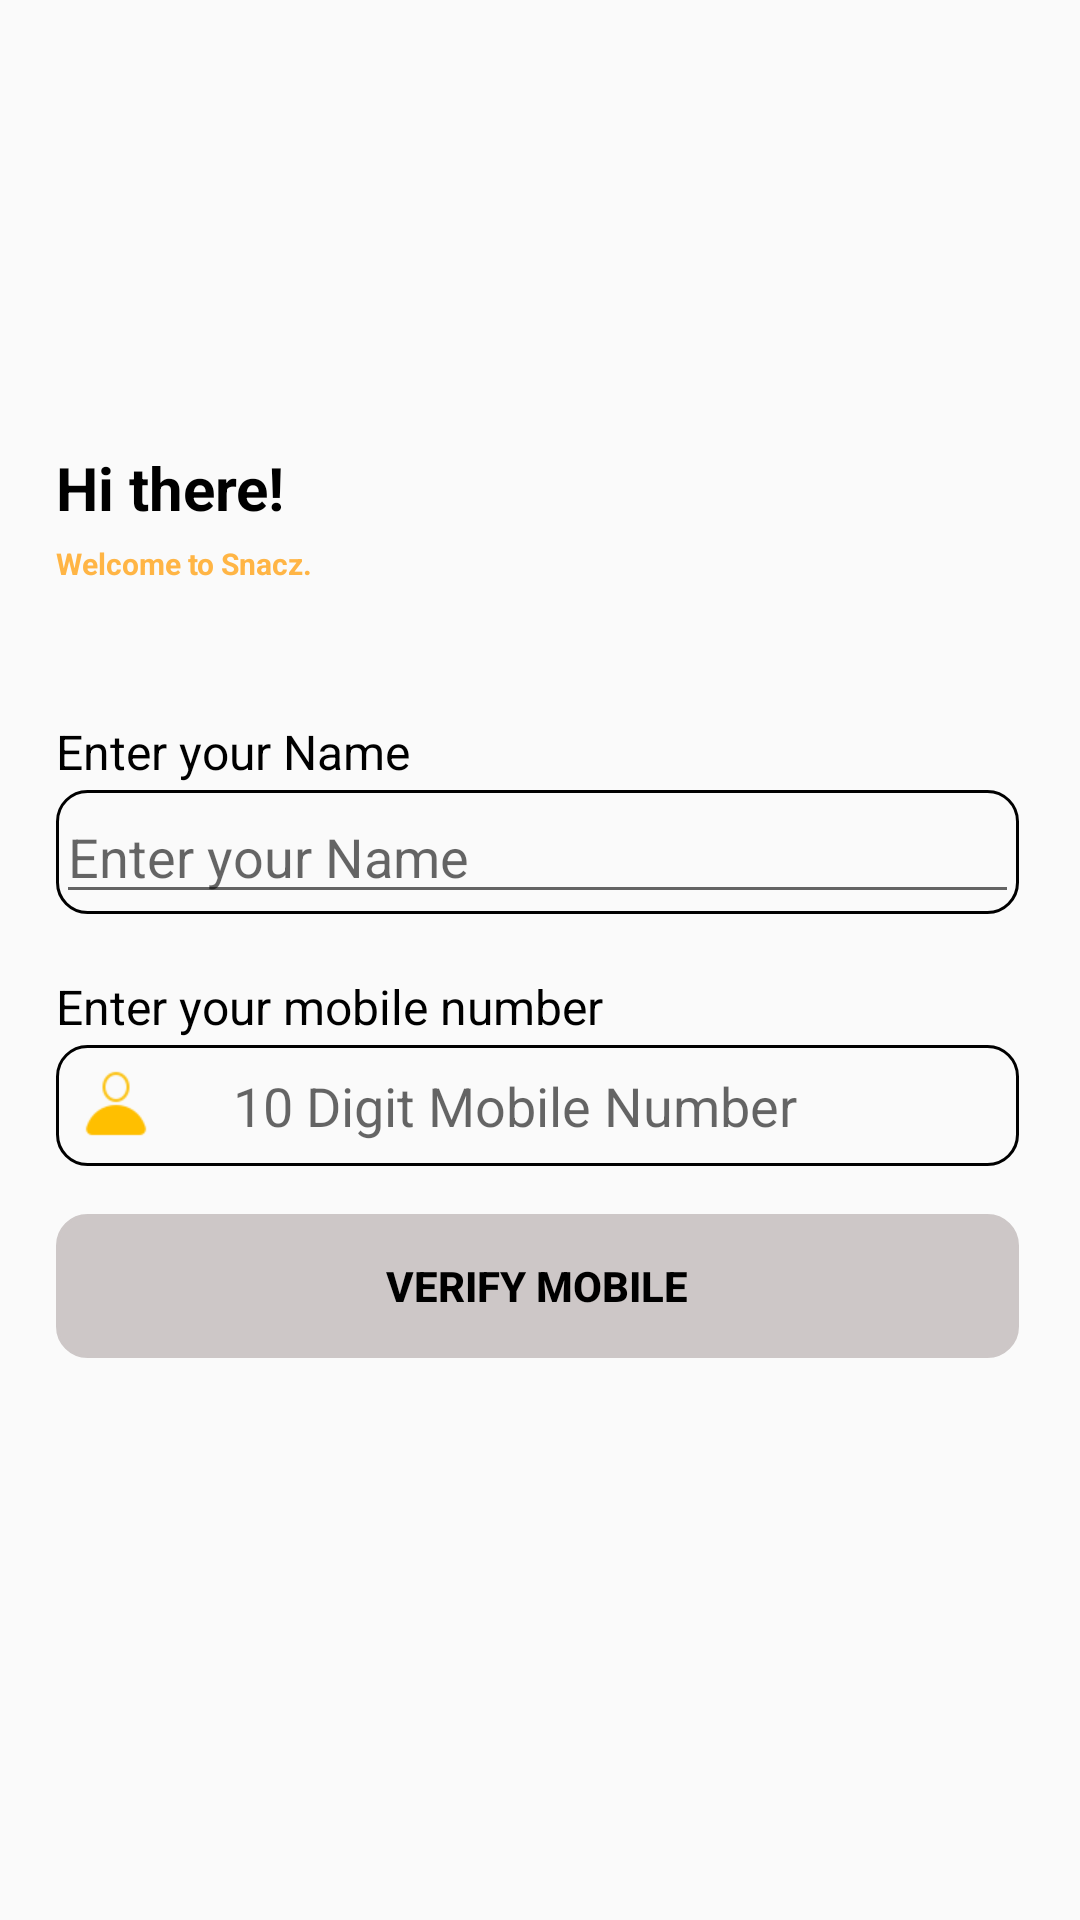

Screen size 1080px x 1920px. Icon name, then its box in pixels as bbox=[x1, y1, x2, y2]:
profile: bbox=[85, 1071, 147, 1136]
